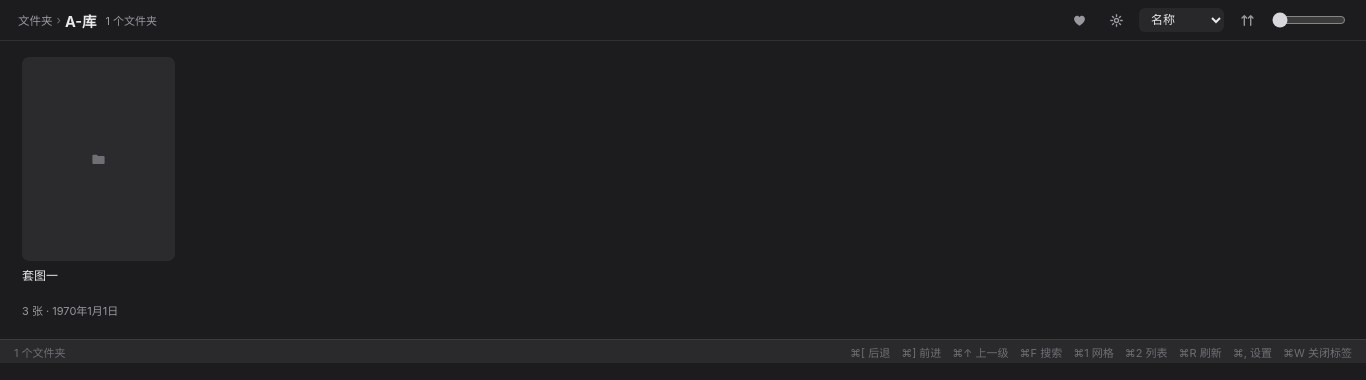
Test: 文件夹页 · 收藏入口 › 网格卡片右键出现菜单：打开 / 新标签 / 新窗口 / 收藏 / Finder
Check: the text "套图一" is shown, box [22,268,58,283]
Right-click the element with class "grid-card": [98, 188] box [22,57,175,318]
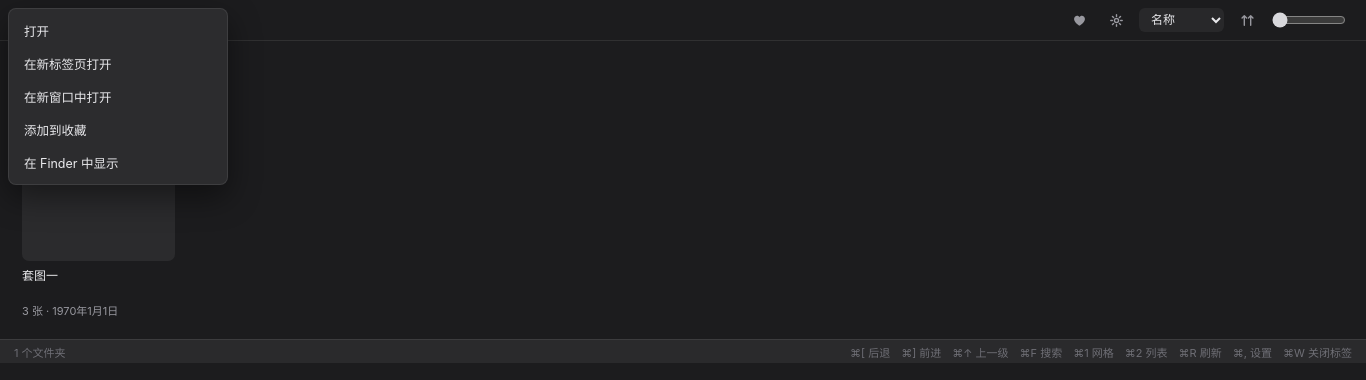
Check: the menu item "打开" is shown, box [14,14,222,47]
Check: the menu item "在新标签页打开" is shown, box [14,47,222,80]
Check: the menu item "在新窗口中打开" is shown, box [14,80,222,113]
